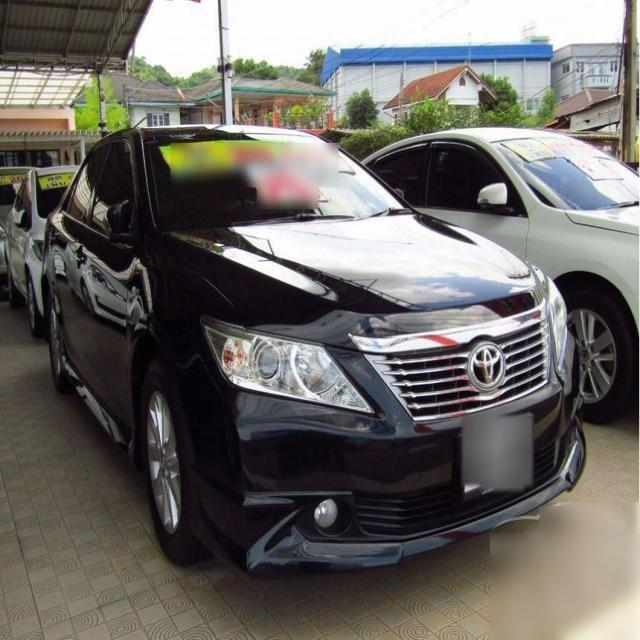back_right_door: (53, 137, 115, 378)
front_bumper: (181, 317, 588, 571)
front_glass: (142, 134, 418, 226)
front_left_light: (550, 276, 568, 360)
front_right_door: (73, 136, 143, 427)
front_right_light: (206, 316, 377, 415)
hood: (166, 211, 547, 353)
right_mirror: (102, 200, 133, 243)
wheel: (138, 352, 210, 563), (47, 291, 76, 395)
